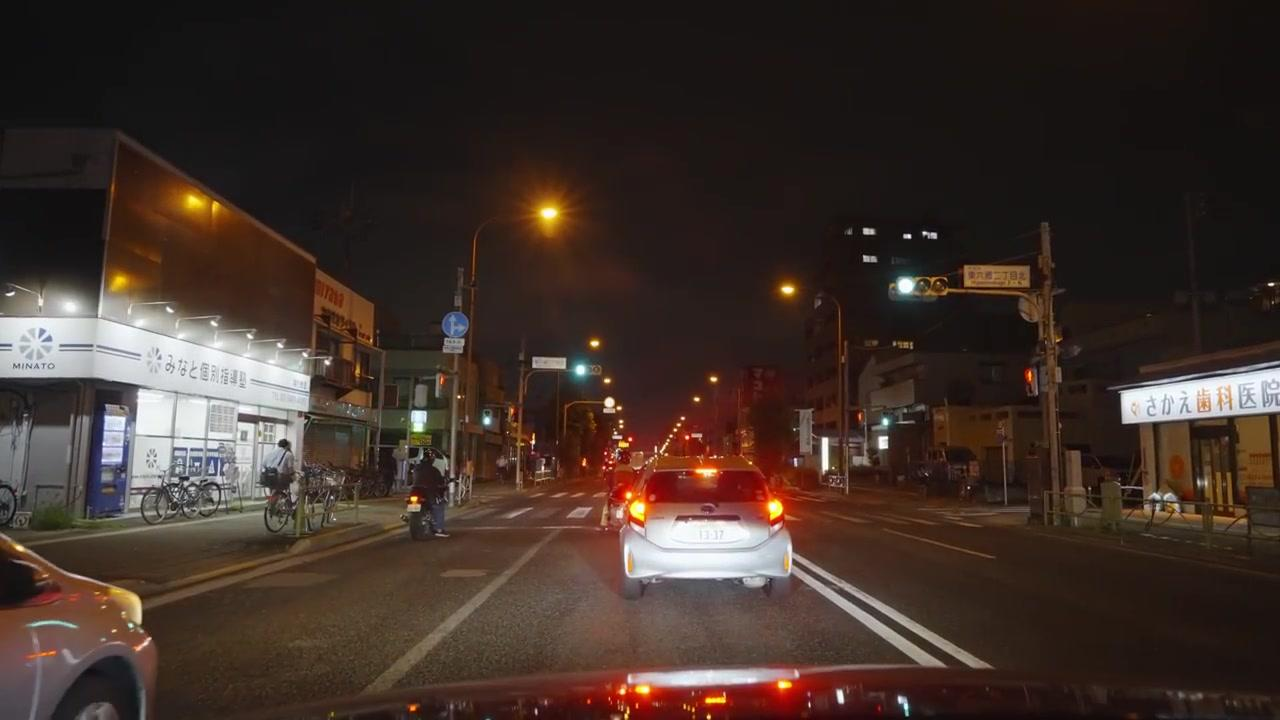bench: (1246, 488, 1280, 539)
bicycle: (141, 466, 220, 525), (263, 471, 321, 535), (314, 467, 345, 527), (0, 480, 19, 526)
car: (0, 531, 159, 715), (620, 458, 793, 600), (915, 444, 983, 500), (598, 465, 641, 533)
motorcycle: (401, 486, 444, 540)
person: (409, 448, 449, 536), (262, 439, 297, 509), (379, 445, 398, 496)
traffic light: (1024, 365, 1039, 396), (480, 405, 495, 430), (854, 408, 865, 431)
